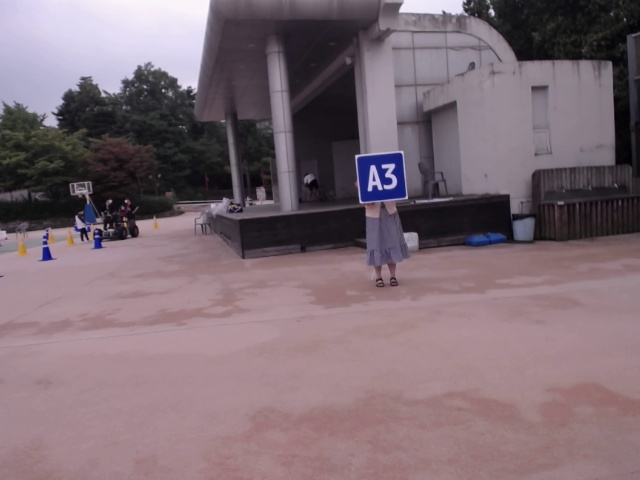delivery_a3: (356, 152, 408, 203)
